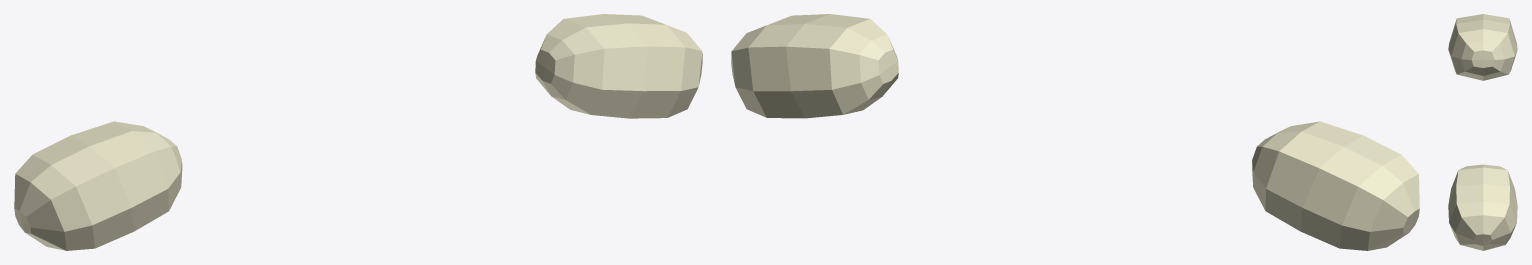
Rendered from AstronautArms.glb.
The picture shows the model from 3 angles, left to right: view 1: azimuth 30°, elevation 25°; view 2: azimuth 150°, elevation 25°; view 3: azimuth 270°, elevation 25°; orthographic projection. The views are drawn at different scales.
Parts seen in each view (by area): view 1: AstronautArms; view 2: AstronautArms; view 3: AstronautArms.
Part boxes in pixels (left/top/right/bottom): AstronautArms: left=14, top=14, right=702, bottom=250; AstronautArms: left=731, top=14, right=1419, bottom=250; AstronautArms: left=1448, top=14, right=1517, bottom=250.
Size of the model in its own units: 0.7907 by 0.1191 by 0.1158.
